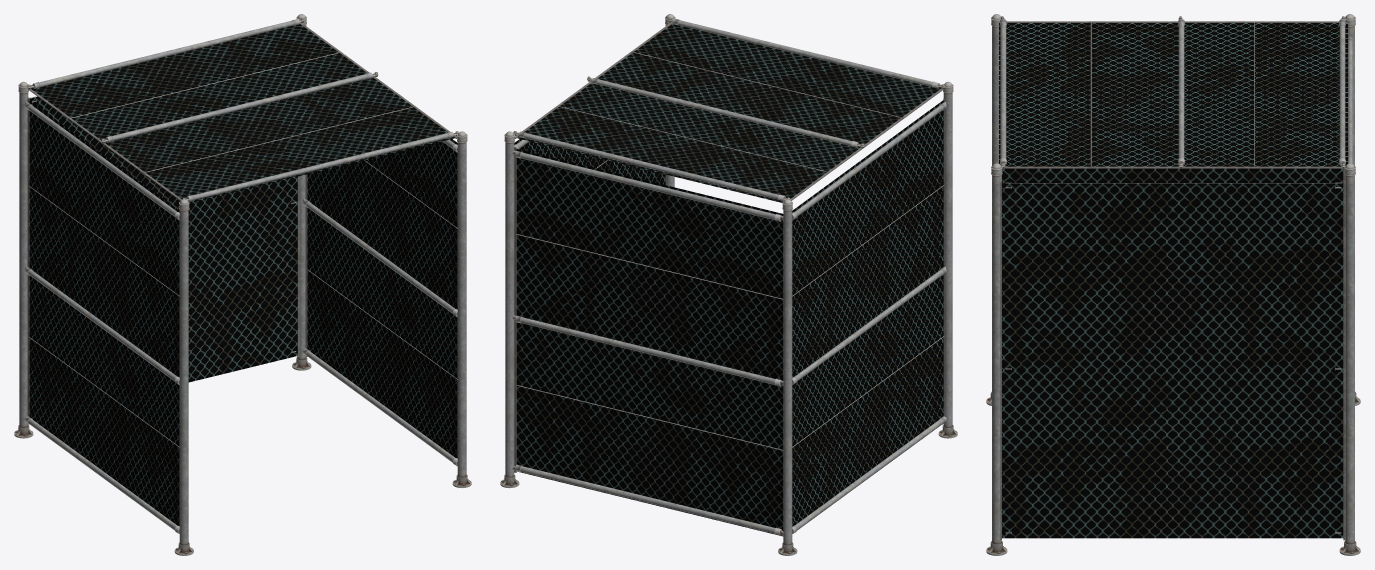
File: cage.glb
3 views of the same model, side by side, from view 1: azimuth 30°, elevation 25°; view 2: azimuth 150°, elevation 25°; view 3: azimuth 270°, elevation 25° (orthographic). The views are drawn at different scales.
Parts seen in each view (by area): view 1: modular_chainlink_fence_double.002, modular_chainlink_fence_double.004, modular_chainlink_fence_double.003, modular_chainlink_fence_double.001, modular_chainlink_fence_post.001, modular_chainlink_fence_post.002, modular_chainlink_fence_post.003, modular_chainlink_fence_post.004; view 2: modular_chainlink_fence_double.001, modular_chainlink_fence_double.002, modular_chainlink_fence_double.004, modular_chainlink_fence_post.003, modular_chainlink_fence_post.004, modular_chainlink_fence_post.001, modular_chainlink_fence_double.003; view 3: modular_chainlink_fence_double.003, modular_chainlink_fence_double.004, modular_chainlink_fence_double.002, modular_chainlink_fence_post.002, modular_chainlink_fence_post.004, modular_chainlink_fence_post.001, modular_chainlink_fence_double.001, modular_chainlink_fence_post.003.
Part boxes in pixels (x1=…): modular_chainlink_fence_double.002: x1=23, y1=98, x2=179, y2=533; modular_chainlink_fence_double.004: x1=27, y1=18, x2=458, y2=202; modular_chainlink_fence_double.003: x1=301, y1=139, x2=457, y2=466; modular_chainlink_fence_double.001: x1=28, y1=96, x2=299, y2=382; modular_chainlink_fence_post.001: x1=174, y1=199, x2=193, y2=555; modular_chainlink_fence_post.002: x1=452, y1=131, x2=471, y2=488; modular_chainlink_fence_post.003: x1=14, y1=81, x2=33, y2=438; modular_chainlink_fence_post.004: x1=292, y1=14, x2=311, y2=370; modular_chainlink_fence_double.001: x1=512, y1=147, x2=783, y2=536; modular_chainlink_fence_double.002: x1=792, y1=98, x2=948, y2=533; modular_chainlink_fence_double.004: x1=513, y1=17, x2=945, y2=202; modular_chainlink_fence_post.003: x1=778, y1=199, x2=797, y2=555; modular_chainlink_fence_post.004: x1=500, y1=131, x2=519, y2=488; modular_chainlink_fence_post.001: x1=938, y1=81, x2=957, y2=438; modular_chainlink_fence_double.003: x1=514, y1=139, x2=666, y2=185; modular_chainlink_fence_double.003: x1=1000, y1=181, x2=1345, y2=540; modular_chainlink_fence_double.004: x1=998, y1=16, x2=1348, y2=168; modular_chainlink_fence_double.002: x1=1001, y1=168, x2=1345, y2=183; modular_chainlink_fence_post.002: x1=986, y1=163, x2=1007, y2=555; modular_chainlink_fence_post.004: x1=1339, y1=163, x2=1360, y2=555; modular_chainlink_fence_post.001: x1=986, y1=14, x2=1001, y2=405; modular_chainlink_fence_double.001: x1=1348, y1=36, x2=1353, y2=163; modular_chainlink_fence_post.003: x1=1344, y1=14, x2=1360, y2=405.
Size of the model in its own units: 2.65 by 3.03 by 2.65.
2 materials, 2 textured.
